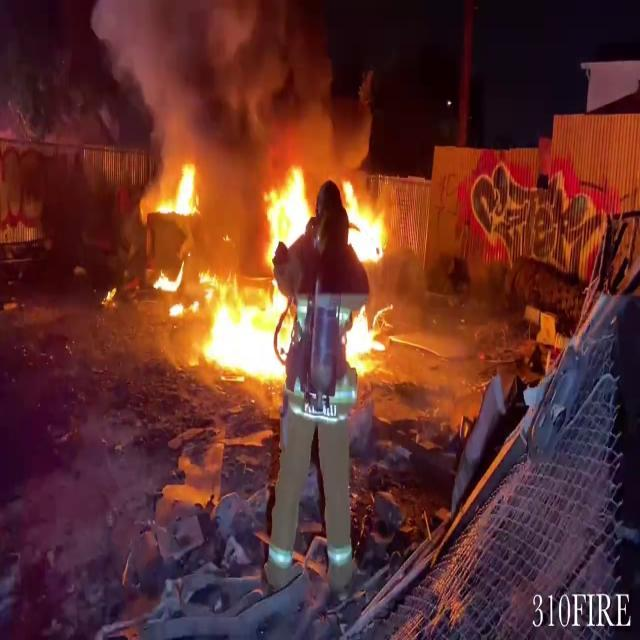Fire: (266, 159, 392, 276), (183, 269, 294, 391), (160, 158, 202, 220)
Smoke: (81, 0, 363, 176)
